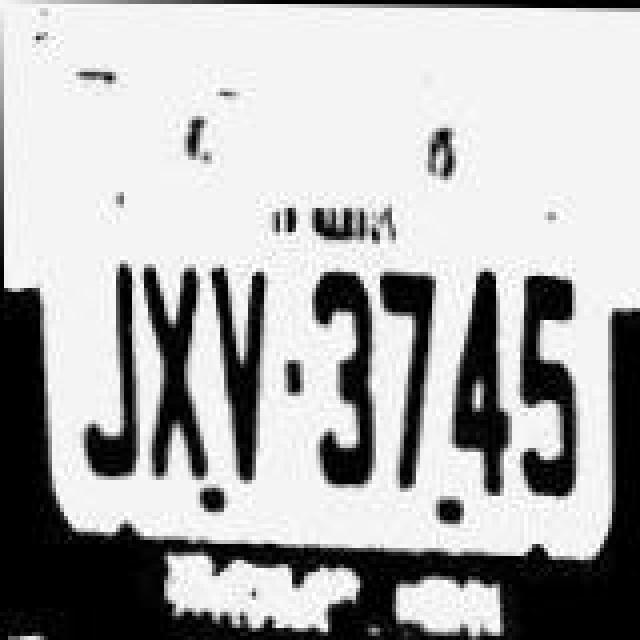3: (302, 258, 378, 494)
4: (438, 262, 514, 494)
5: (510, 264, 586, 500)
7: (374, 260, 442, 492)
J: (70, 250, 138, 482)
V: (204, 256, 276, 484)
X: (130, 250, 206, 482)
